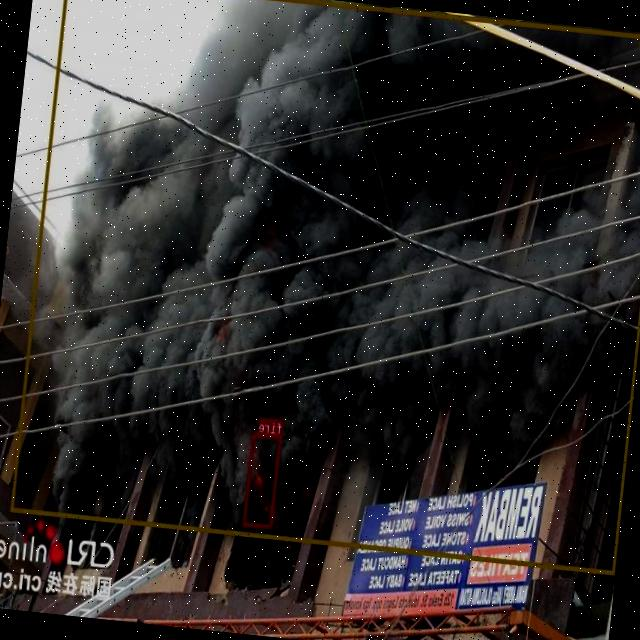fire: (242, 431, 282, 529)
smoke: (11, 0, 640, 574)
